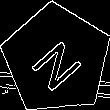N_NE: (25, 28, 88, 91)
